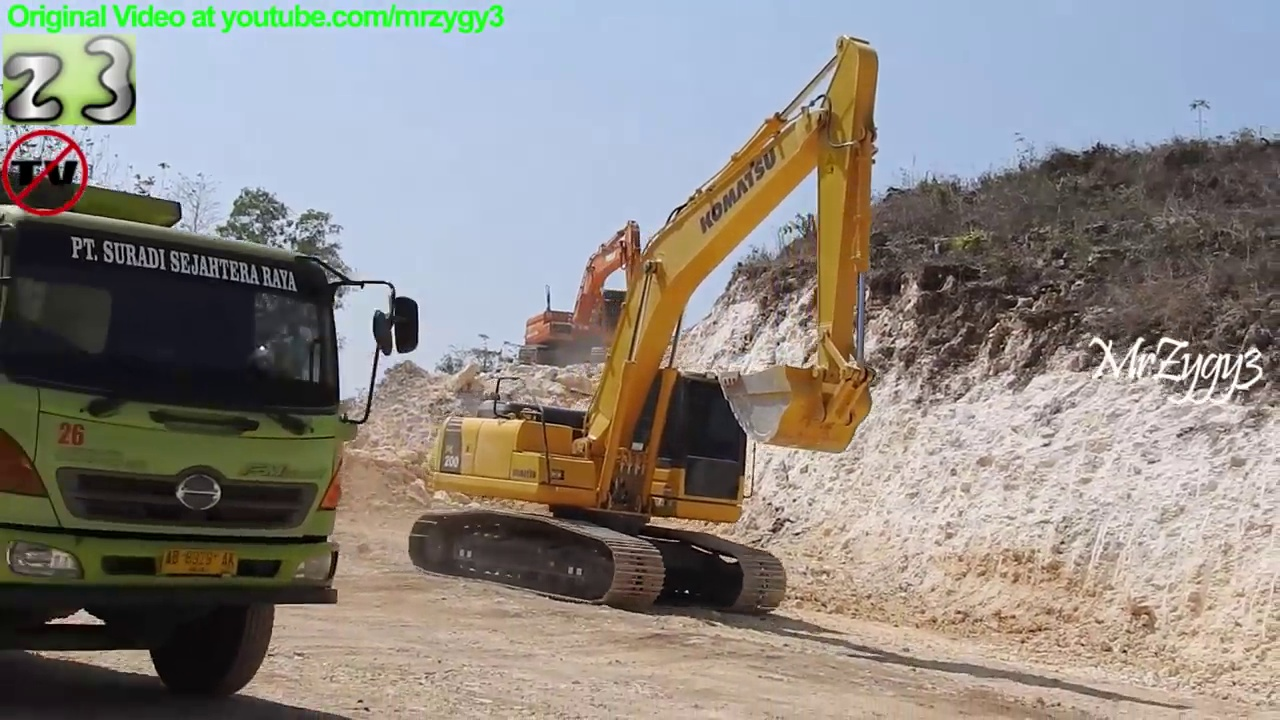excavator: (406, 28, 886, 617), (516, 217, 661, 374)
truck: (1, 165, 426, 705)
